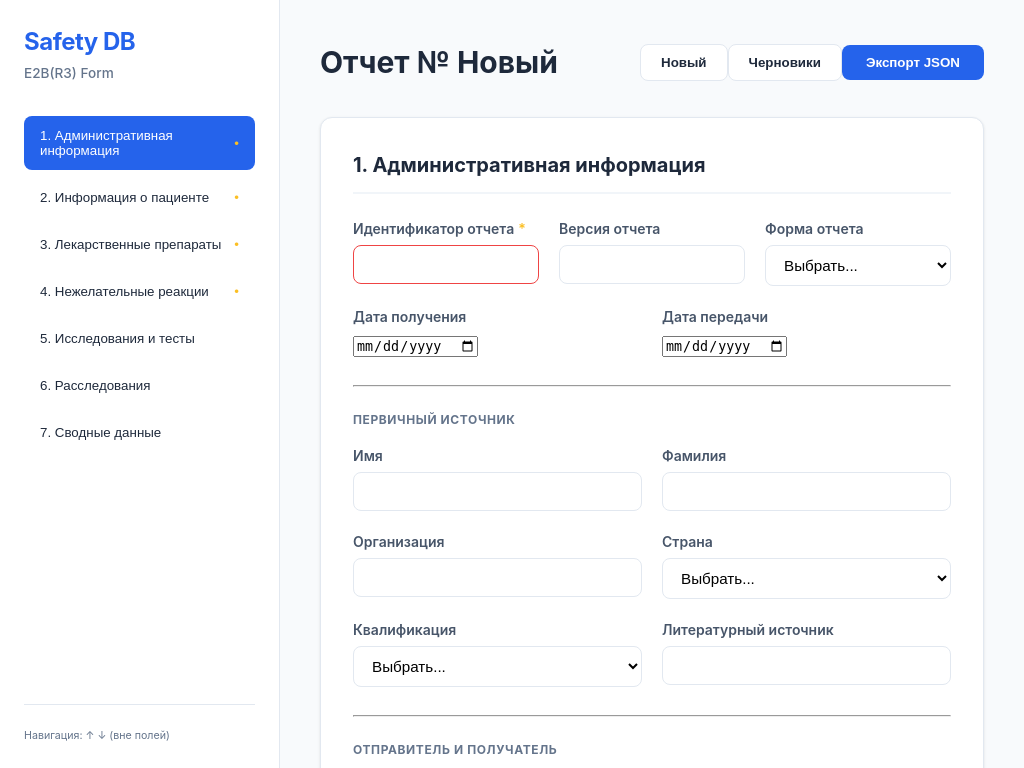
it: App › кнопка черновиков открывает модальное окно
The width and height of the screenshot is (1024, 768).
Click the button "Черновики" at (785, 62), box [728, 44, 842, 81]
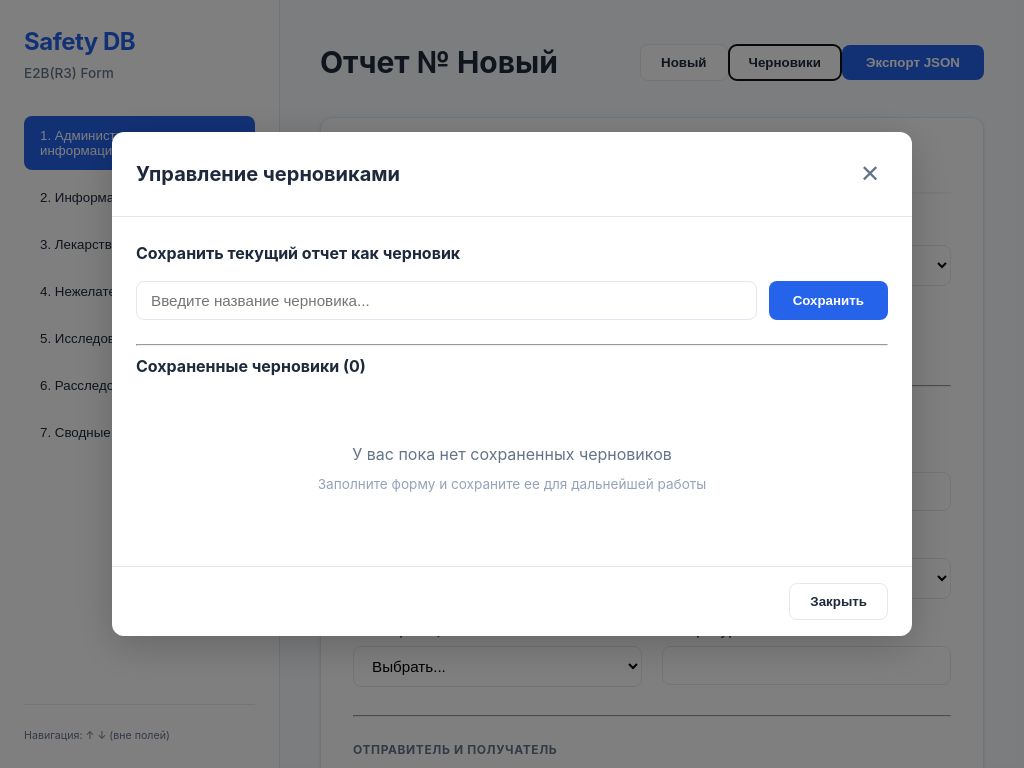
expect the heading "Управление черновиками" is shown: met, box [136, 159, 400, 189]
